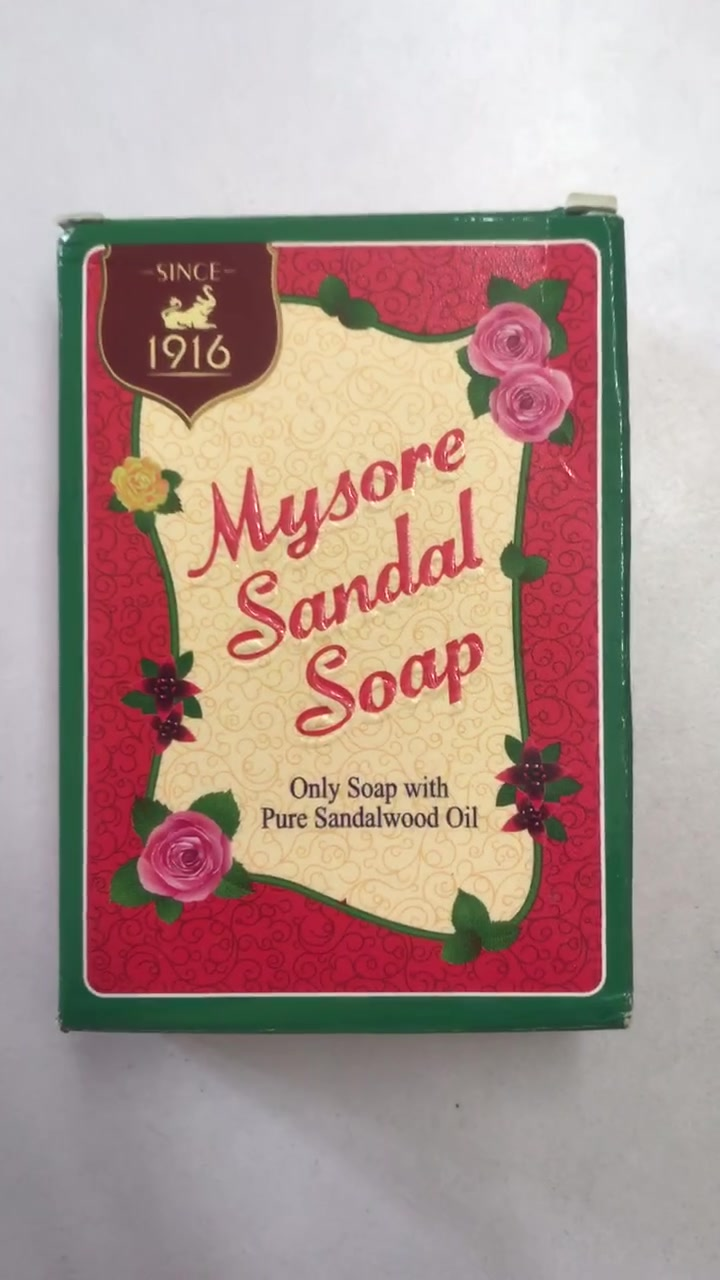mysore sandal soap: (64, 218, 630, 1027)
